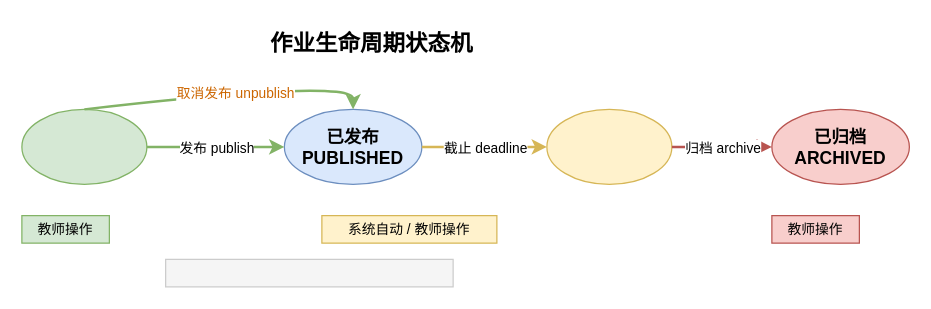
Some shapes in this 931 by 309 pixel diagram are drawn without their labels. The shapes that lost their labels are listed below. From the top down, each one's centre as x and y in pixels, then its label:
At pixel 84 146: "草稿 DRAFT".
At pixel 609 146: "已截止 CLOSED".
At pixel 308 272: "PATCH /api/v1/assignments/{id}/status".
